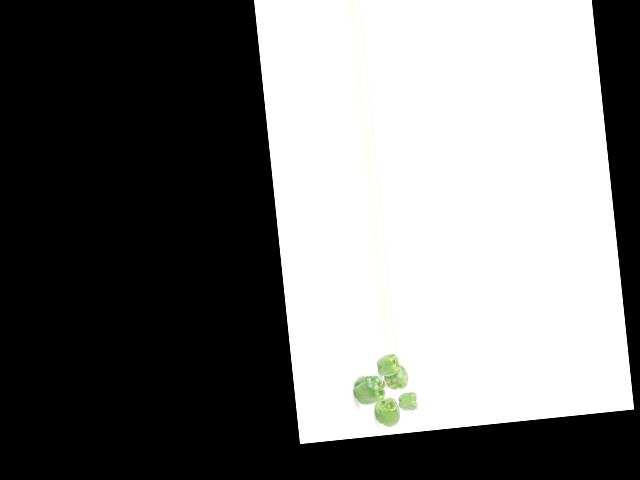bell_pepper: (373, 353, 400, 379)
